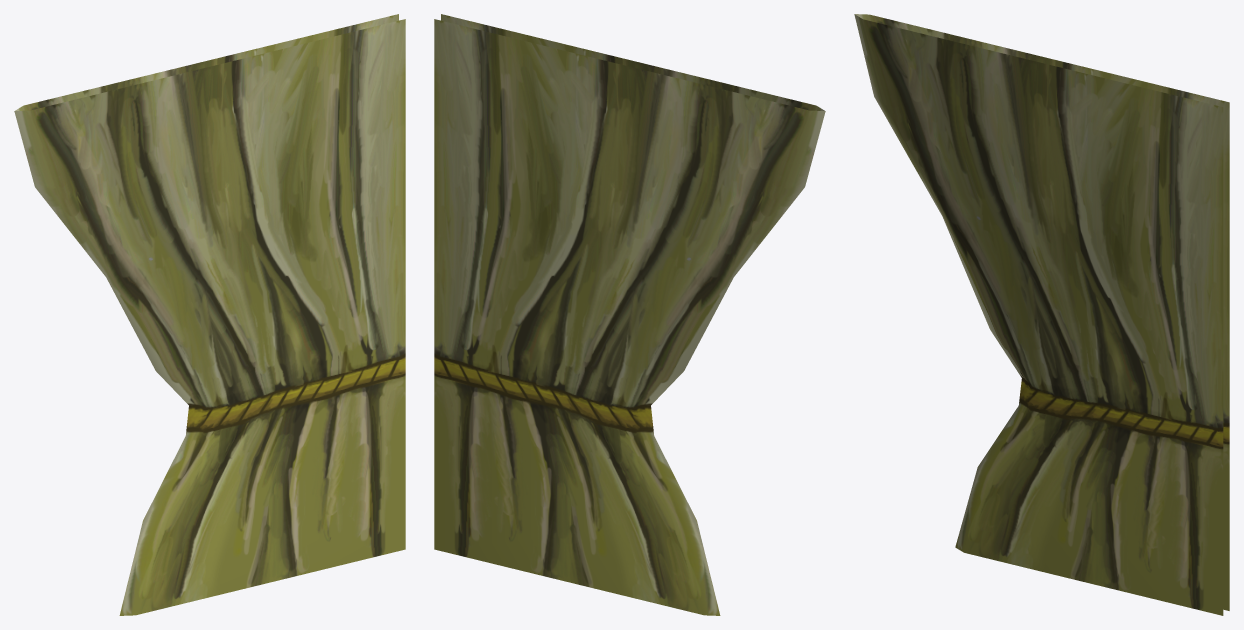
Rendered from e_asset_curtain.fbx.
3 renders of one model, left to right at view 1: azimuth 30°, elevation 25°; view 2: azimuth 150°, elevation 25°; view 3: azimuth 330°, elevation 25°, orthographic. The views are drawn at different scales.
Parts seen in each view (by area): view 1: pCube167; view 2: pCube167; view 3: pCube167.
Part boxes in pixels (box(x1,y1,x2,y2)): pCube167: box(14, 14, 405, 615); pCube167: box(434, 14, 825, 615); pCube167: box(854, 14, 1229, 615).
Bounding box in the file's own units: 1.91 × 2.5 × 0.058.
